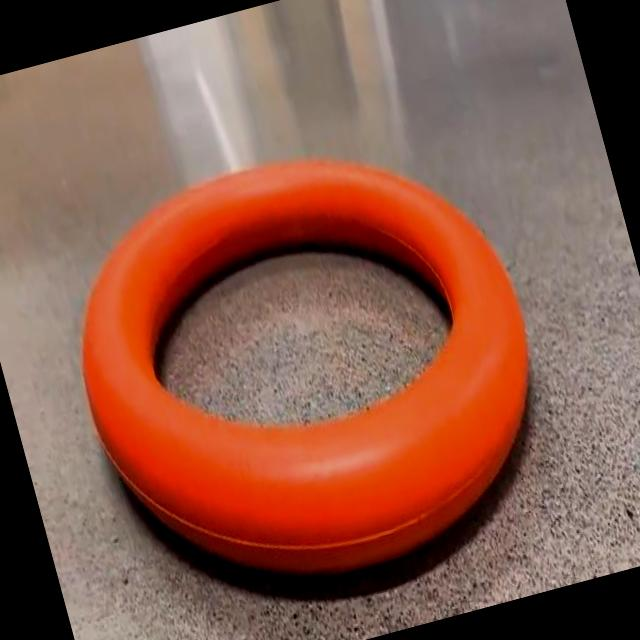note: (83, 161, 526, 572)
